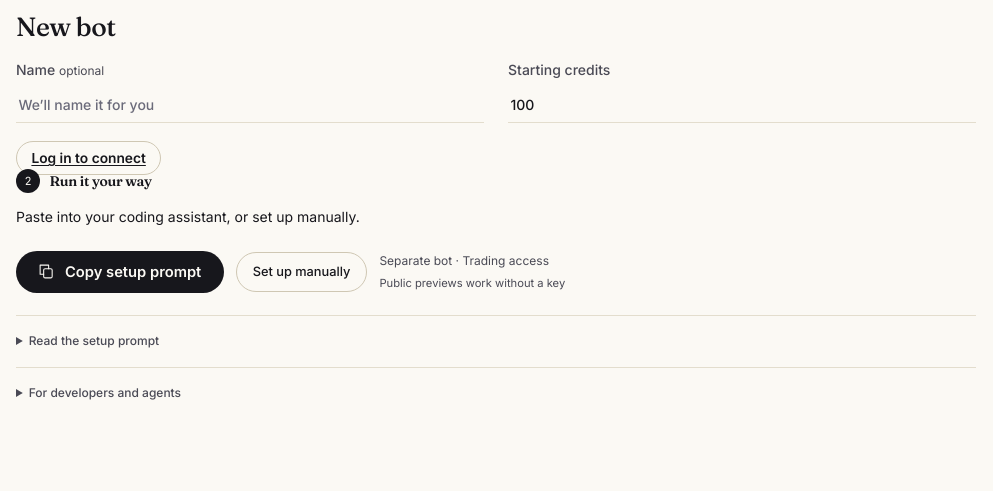
it: ANONYMOUS COPY DOES NOT CREATE AN ACCOUNT, KEY, MEMBERSHIP OR TRANSFER
Click the button "Copy setup prompt" at [120, 272], box [16,251,224,293]
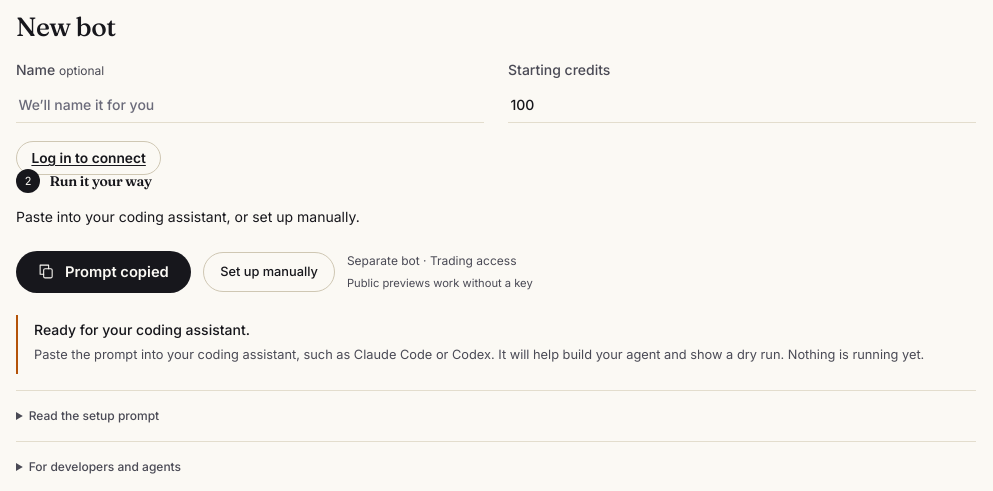
Expected: the button "Prompt copied" is shown, [16,251,191,293]
